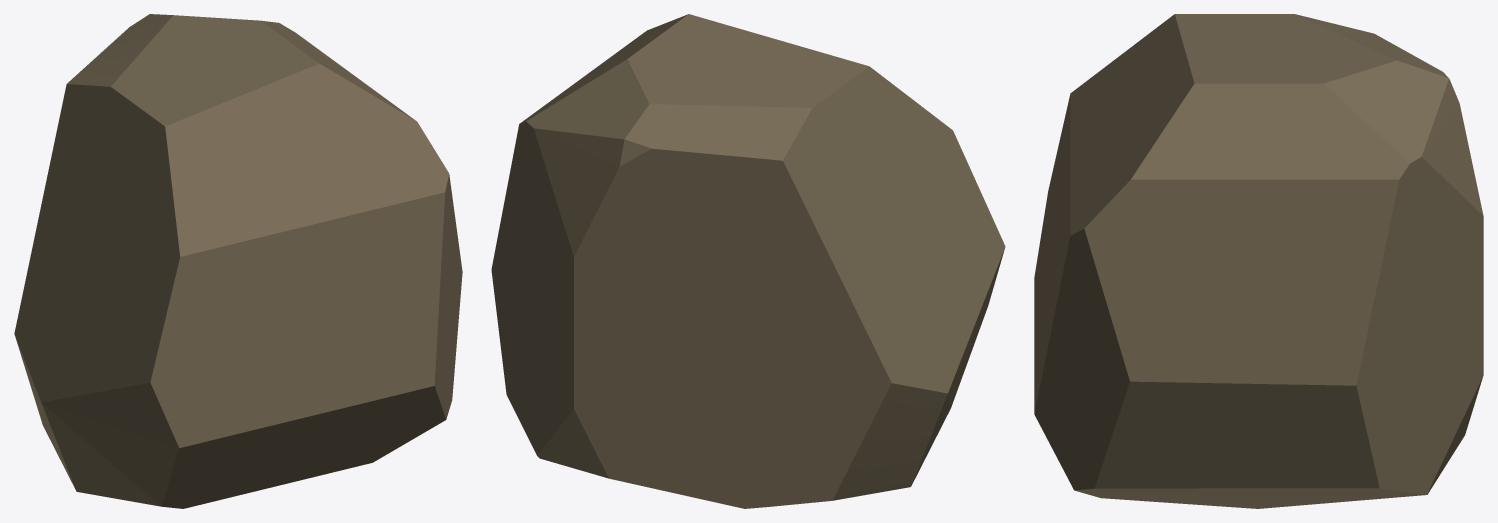
File: Rock_01.fbx
The picture shows the model from 3 angles, left to right: view 1: azimuth 30°, elevation 25°; view 2: azimuth 150°, elevation 25°; view 3: azimuth 270°, elevation 25°; orthographic projection. The views are drawn at different scales.
Parts seen in each view (by area): view 1: Rock_01; view 2: Rock_01; view 3: Rock_01.
Part boxes in pixels (x1,y1,x2,y2): Rock_01: [14, 14, 462, 508]; Rock_01: [491, 14, 1005, 508]; Rock_01: [1034, 14, 1483, 508].
Bounding box in the file's own units: 119 × 127 × 111.
